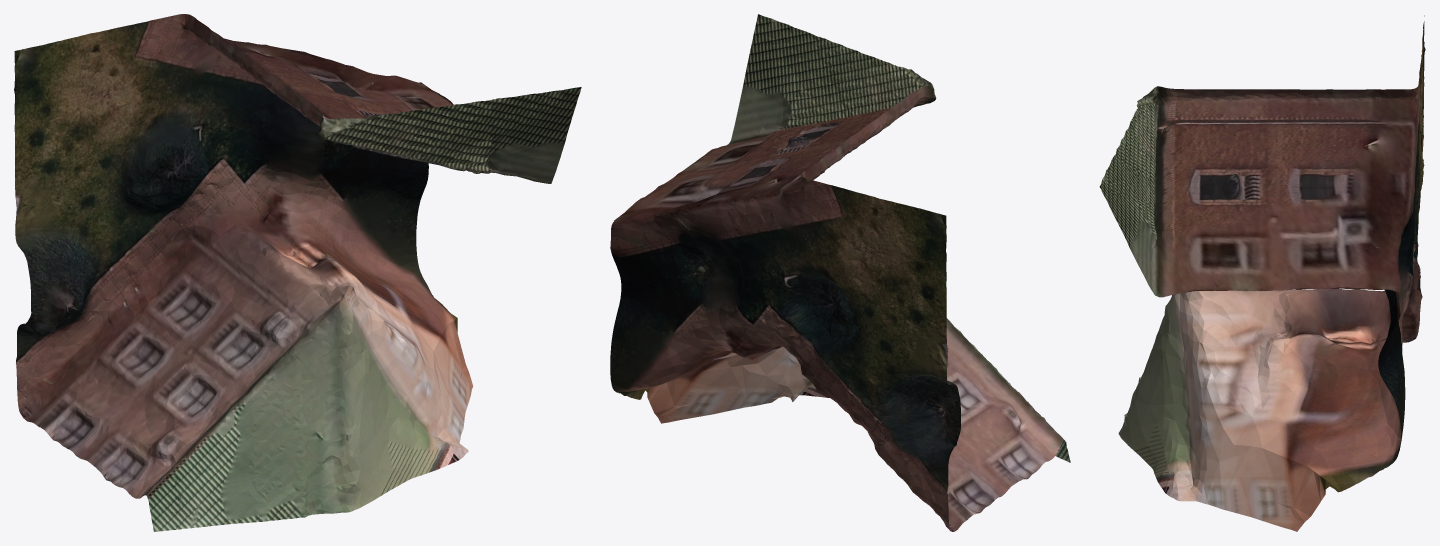
The model's file is tile_11_3.obj.
The picture shows the model from 3 angles, left to right: view 1: azimuth 30°, elevation 25°; view 2: azimuth 150°, elevation 25°; view 3: azimuth 270°, elevation 25°; orthographic projection. The views are drawn at different scales.
Visible parts, largest first — view 1: texture_0; view 2: texture_0; view 3: texture_0.
Part boxes in pixels (<box>): texture_0: <box>14,14,581,531</box>; texture_0: <box>610,14,1070,531</box>; texture_0: <box>1099,15,1425,531</box>.
Size of the model in its own units: 13.88 by 12.92 by 11.07.
Materials: 1 (1 with a texture image).
